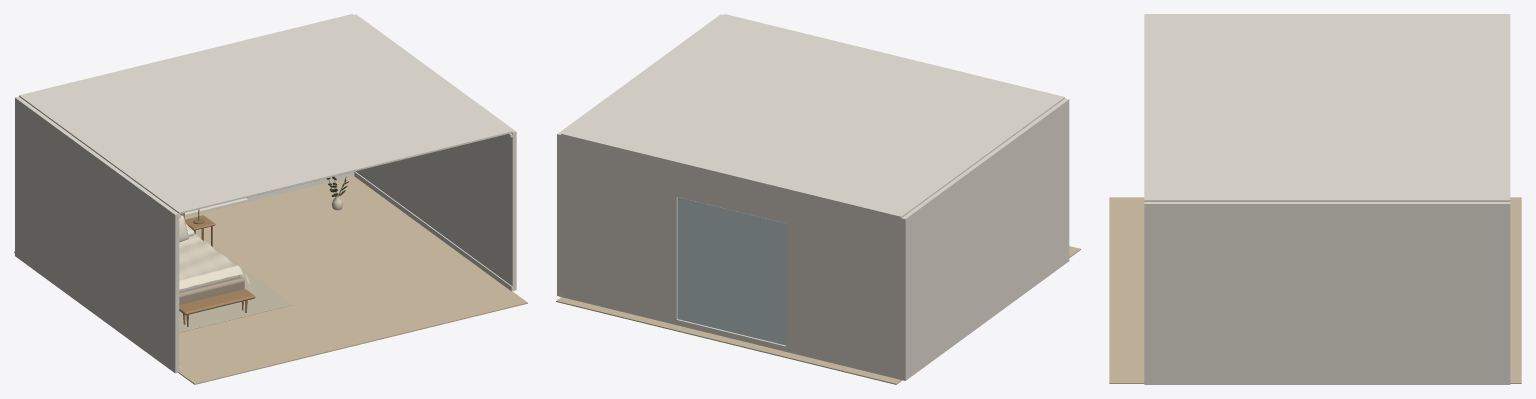
Rendered from bedroom.glb.
The picture shows the model from 3 angles, left to right: view 1: azimuth 30°, elevation 25°; view 2: azimuth 150°, elevation 25°; view 3: azimuth 270°, elevation 25°; orthographic projection. The views are drawn at different scales.
Parts seen in each view (by area): view 1: CEILING_MATERIAL, WALL_MATERIAL, FLOOR_MATERIAL, RUG_FIXED, BED_COVER, TRIM, TIMBER, HEADBOARD; view 2: WALL_MATERIAL, CEILING_MATERIAL, GLASS_VIEW, FLOOR_MATERIAL; view 3: CEILING_MATERIAL, WALL_MATERIAL, FLOOR_MATERIAL.
Part boxes in pixels (x1=…): CEILING_MATERIAL: x1=19, y1=14, x2=512, y2=213; WALL_MATERIAL: x1=15, y1=14, x2=516, y2=373; FLOOR_MATERIAL: x1=14, y1=176, x2=527, y2=384; RUG_FIXED: x1=179, y1=244, x2=292, y2=332; BED_COVER: x1=179, y1=233, x2=249, y2=289; TRIM: x1=178, y1=133, x2=512, y2=372; TIMBER: x1=179, y1=215, x2=255, y2=326; HEADBOARD: x1=179, y1=213, x2=244, y2=304; WALL_MATERIAL: x1=557, y1=14, x2=1069, y2=380; CEILING_MATERIAL: x1=561, y1=14, x2=1064, y2=217; GLASS_VIEW: x1=677, y1=197, x2=785, y2=345; FLOOR_MATERIAL: x1=556, y1=246, x2=1080, y2=384; CEILING_MATERIAL: x1=1144, y1=14, x2=1510, y2=201; WALL_MATERIAL: x1=1144, y1=14, x2=1510, y2=384; FLOOR_MATERIAL: x1=1109, y1=197, x2=1521, y2=383.
Bounding box in the file's own units: 6.76 × 3.05 × 6.2.
